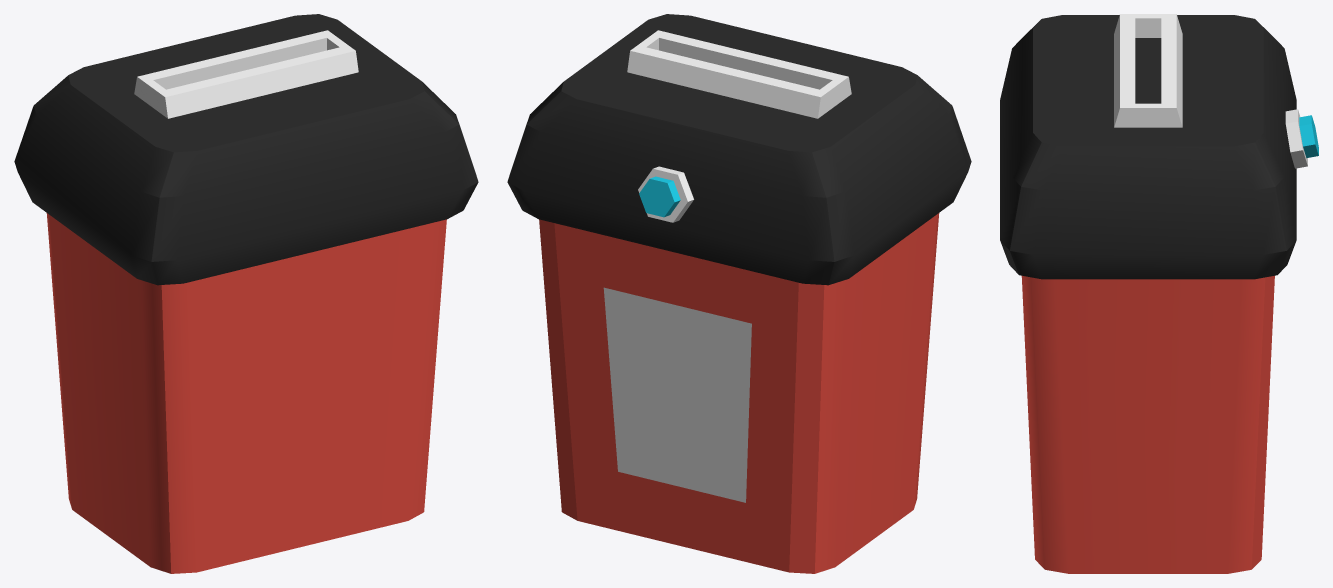
The model's file is mesh_shredder.fbx.
3 views of the same model, side by side, from view 1: azimuth 30°, elevation 25°; view 2: azimuth 150°, elevation 25°; view 3: azimuth 270°, elevation 25° (orthographic).
Visible parts, largest first — view 1: mesh_shredder_01; view 2: mesh_shredder_01; view 3: mesh_shredder_01.
Part boxes in pixels (left/top/right/bottom): mesh_shredder_01: left=14, top=14, right=478, bottom=573; mesh_shredder_01: left=507, top=14, right=971, bottom=573; mesh_shredder_01: left=1000, top=14, right=1318, bottom=573.
Bounding box in the file's own units: 13.75 × 16.88 × 10.92.
